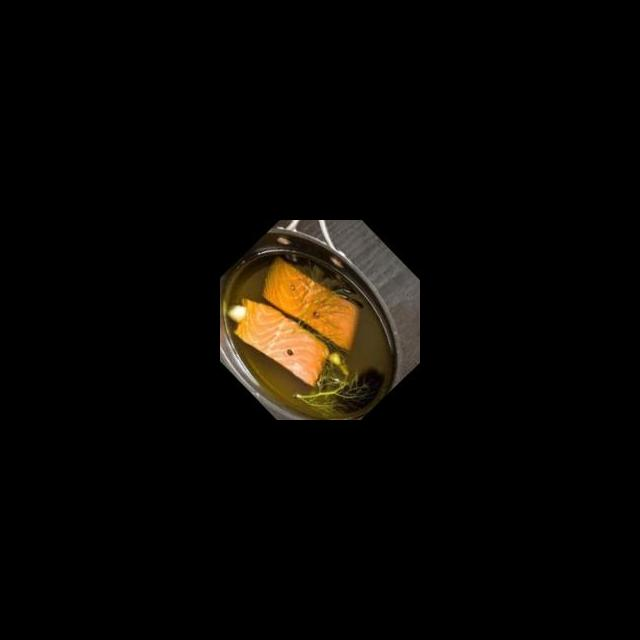ca hoi: (248, 236, 378, 370), (220, 276, 340, 401)
